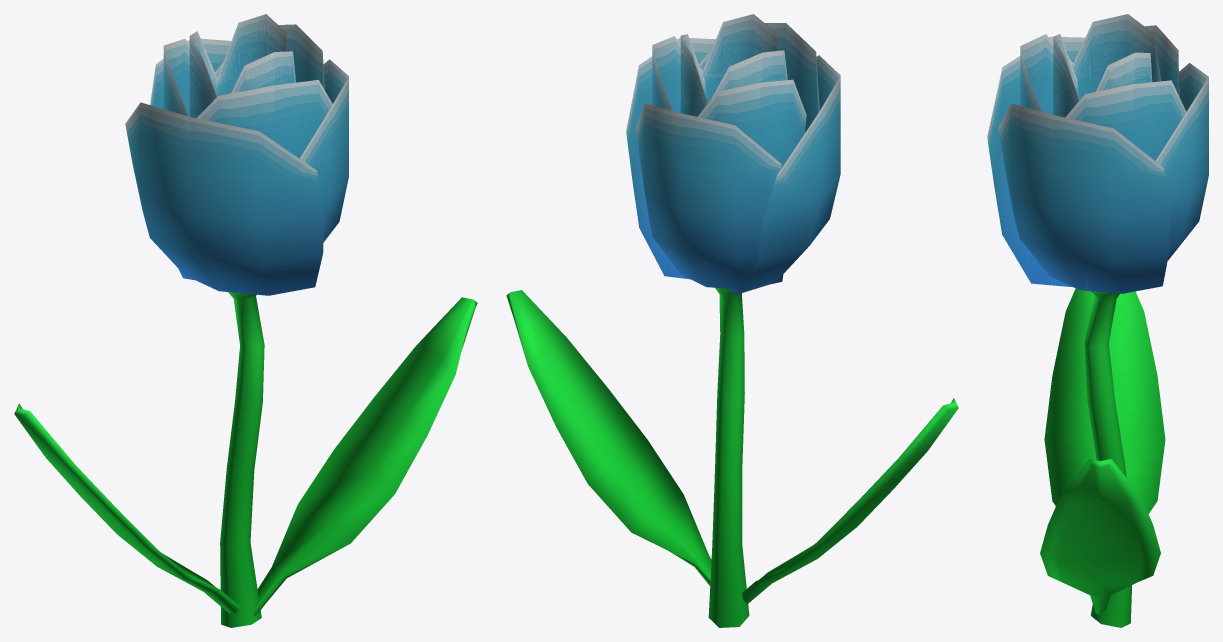
File: Tulip.fbx
3 views of the same model, side by side, from view 1: azimuth 30°, elevation 25°; view 2: azimuth 150°, elevation 25°; view 3: azimuth 270°, elevation 25° (orthographic).
Parts seen in each view (by area): view 1: Flower, BézierCurve; view 2: Flower, BézierCurve; view 3: Flower, BézierCurve.
Part boxes in pixels (left/top/right/bottom): Flower: left=125, top=14, right=348, bottom=295; BézierCurve: left=14, top=292, right=477, bottom=627; Flower: left=626, top=14, right=840, bottom=294; BézierCurve: left=506, top=287, right=958, bottom=627; Flower: left=987, top=14, right=1208, bottom=293; BézierCurve: left=1040, top=288, right=1165, bottom=627.
Size of the model in its own units: 526 by 646 by 220.
